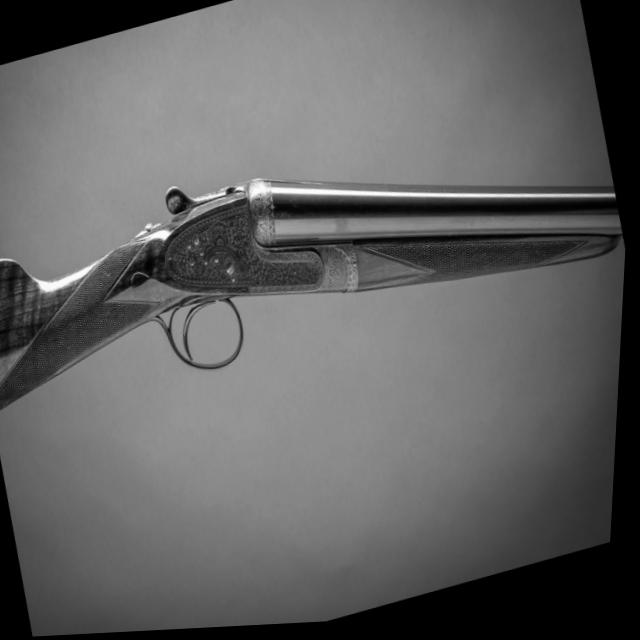firearm: (0, 68, 636, 435)
